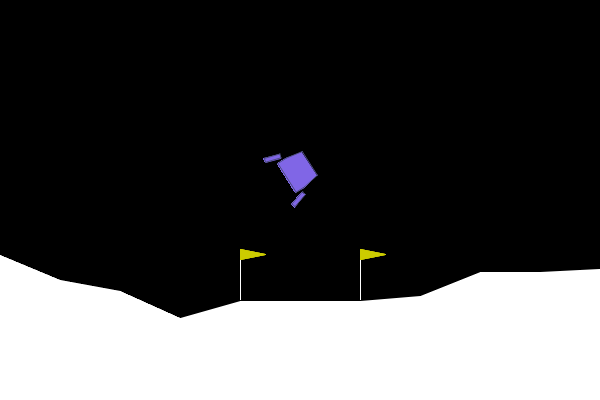lander: (261, 137, 327, 209)
